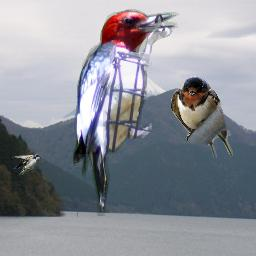Swallow: (171, 76, 233, 158), (11, 154, 41, 177)
Woodpecker: (73, 9, 180, 216)
